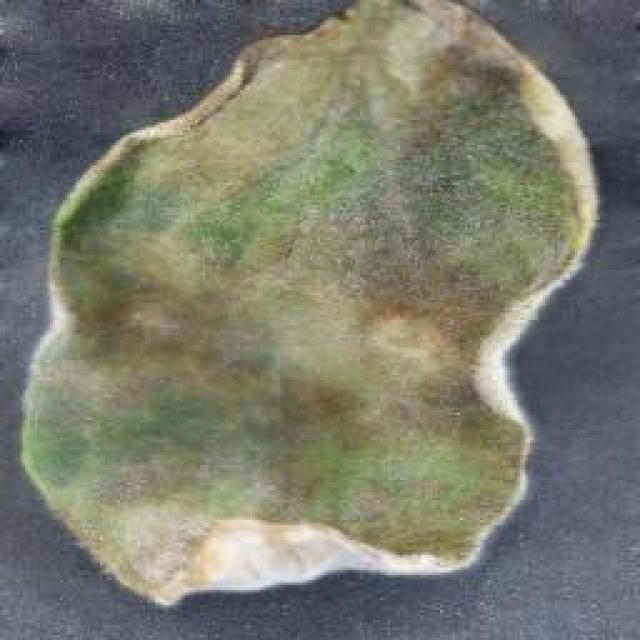Tomato___Late_blight: (16, 0, 604, 612)
